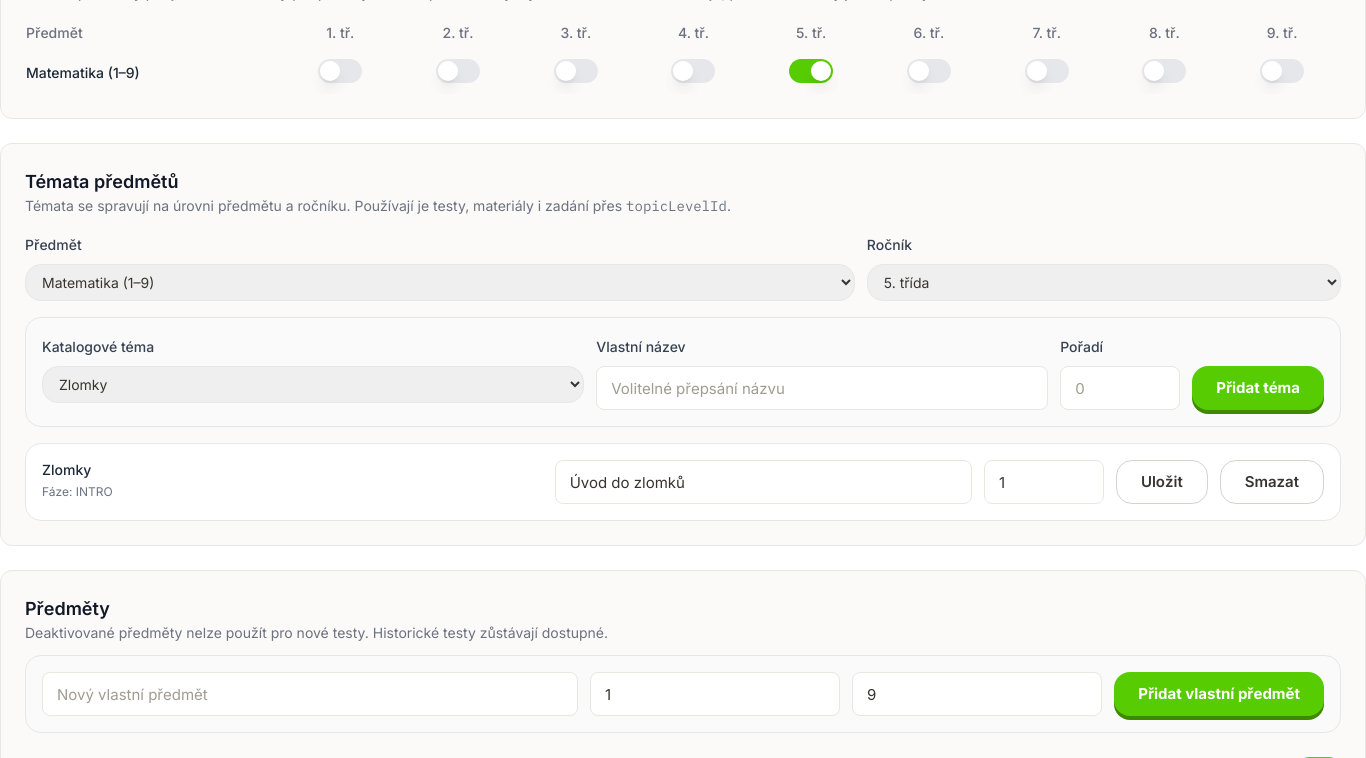
Test: SettingsPage topic management › creates a topic level for the selected subject grade
The width and height of the screenshot is (1366, 758).
(page scrolled)
Expected: the heading "Témata předmětů" is shown, [25,171,178,192]
Select "Desetinná čísla" in the dropdown labelled "Katalogové téma": [313, 384] box [42,366,584,403]
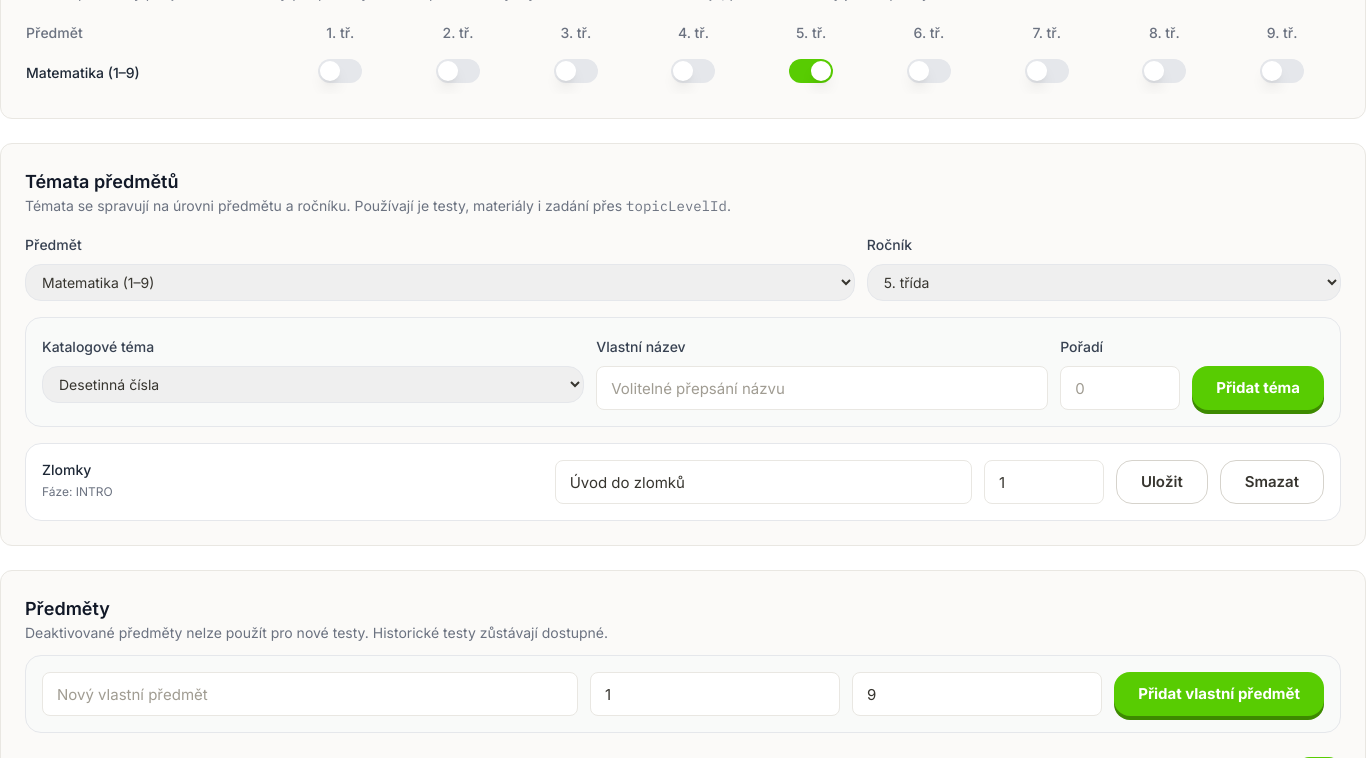
In the field named "Vlastní název tématu": [822, 388] box [596,366,1048,410], type "Desetinná čísla - úvod"
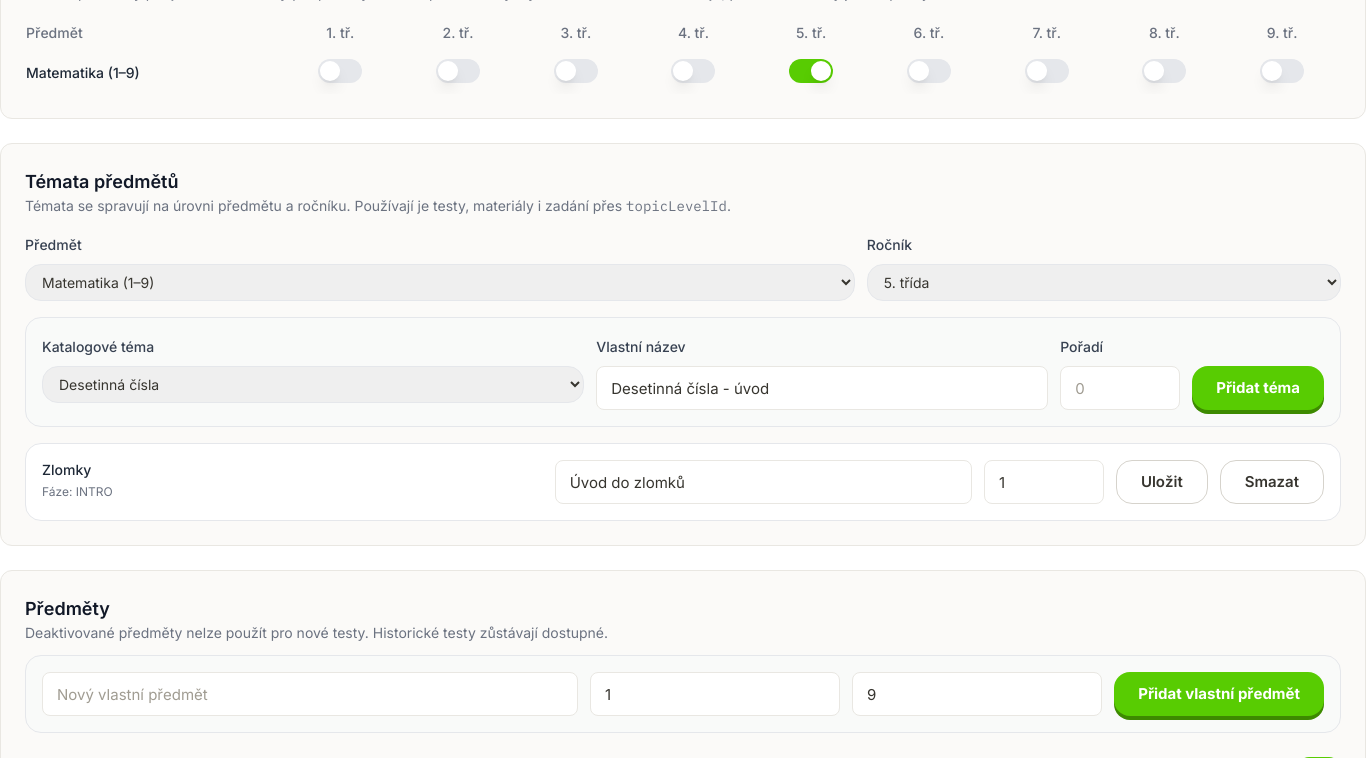
In the field named "Pořadí tématu": [1120, 388] box [1060,366,1180,410], type "2"
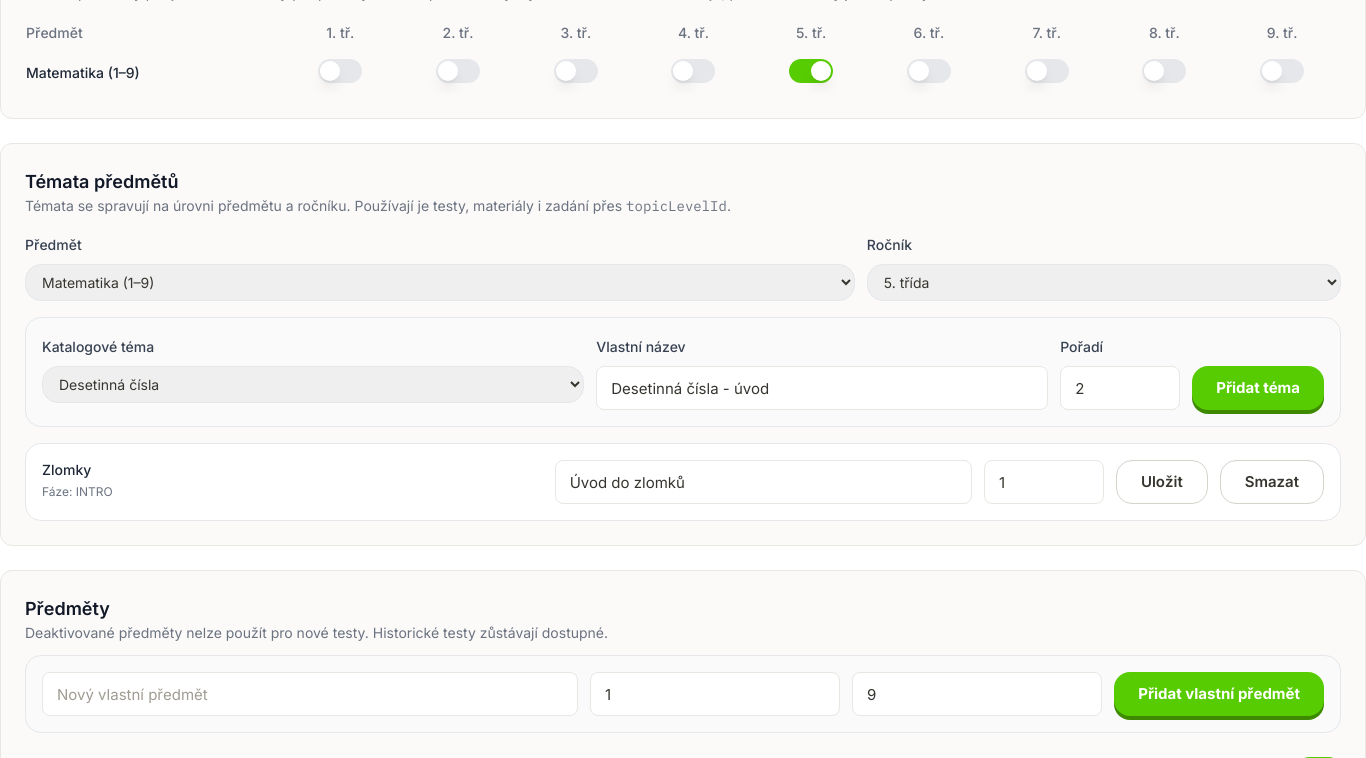
Click the button "Přidat téma": [1258, 388] box [1192,366,1324,410]
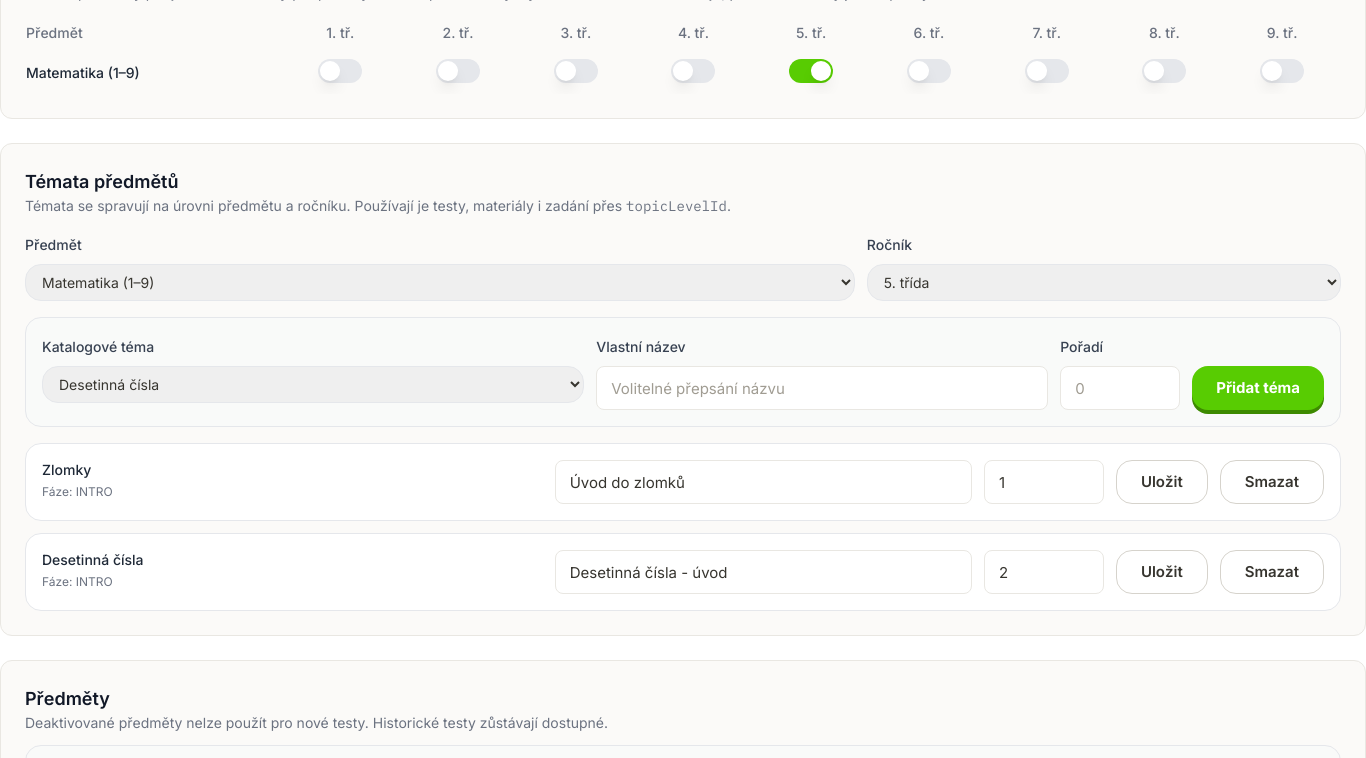
Result: the 3rd field showing "Desetinná čísla - úvod" is shown at [555,550,972,594]
